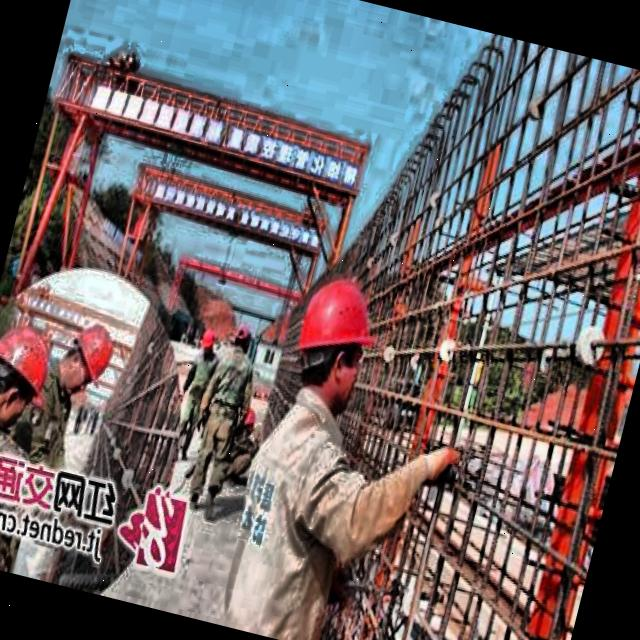helmet: (271, 266, 387, 419), (0, 312, 67, 441), (50, 312, 124, 404), (194, 324, 219, 362)
